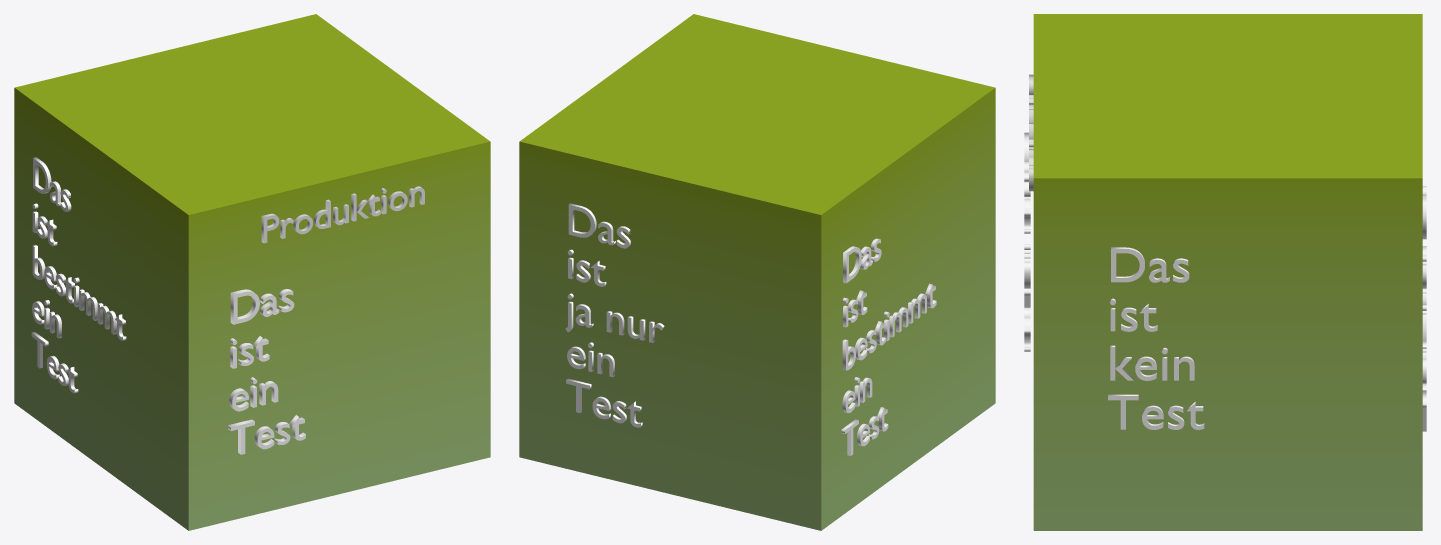
Rendered from Produktionsbox.glb.
The picture shows the model from 3 angles, left to right: view 1: azimuth 30°, elevation 25°; view 2: azimuth 150°, elevation 25°; view 3: azimuth 270°, elevation 25°; orthographic projection. The views are drawn at different scales.
Visible parts, largest first — view 1: Cube.001, T2 Linke Seite.001, T1 Frontseite, Text; view 2: Cube.001, T2 Linke Seite.001, T2 Linke Seite.002; view 3: Cube.001, T2 Rechte Seite, T1 Frontseite, T2 Linke Seite.002, Text.
Part boxes in pixels (x1,y1,x2,y2): Cube.001: (14, 14, 490, 530); T2 Linke Seite.001: (31, 157, 126, 393); T1 Frontseite: (228, 289, 305, 454); Text: (261, 186, 424, 243); Cube.001: (519, 14, 995, 530); T2 Linke Seite.001: (841, 238, 936, 455); T2 Linke Seite.002: (565, 203, 664, 427); Cube.001: (1033, 14, 1422, 530); T2 Rechte Seite: (1108, 247, 1204, 429); T1 Frontseite: (1024, 132, 1030, 351); T2 Linke Seite.002: (1422, 186, 1426, 431); Text: (1029, 74, 1033, 191).
Bounding box in the file's own units: 2.04 × 2 × 2.07.
Materials: 5 (1 with a texture image).
